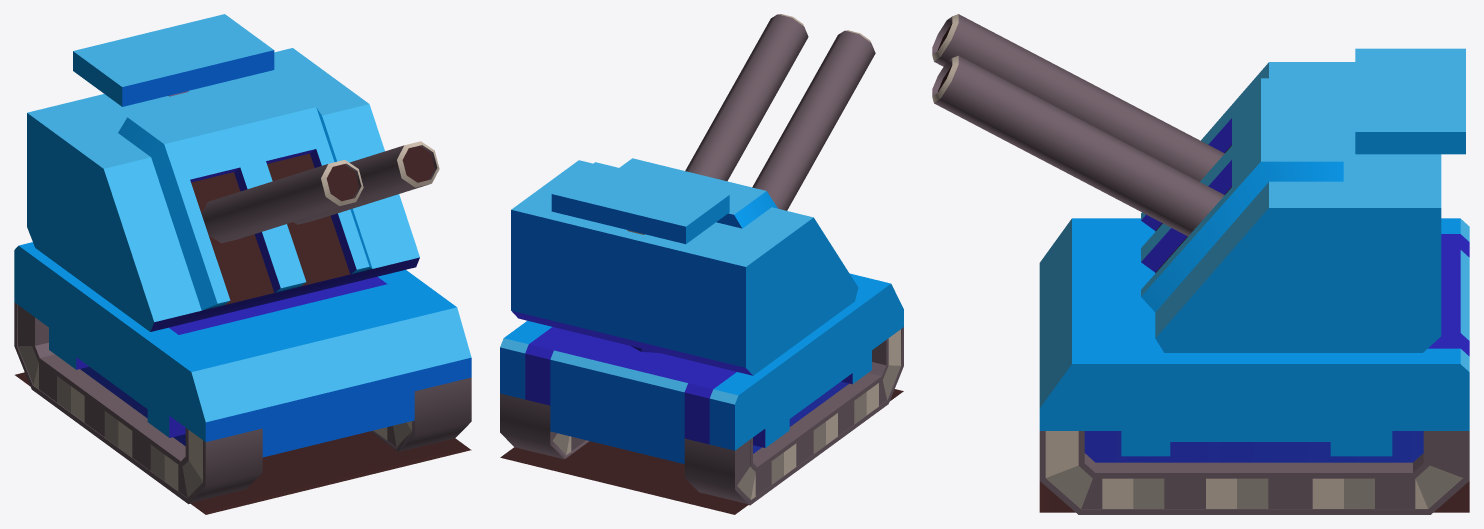
Rendered from AntiAirMesh.BlueMoon.glb.
The picture shows the model from 3 angles, left to right: view 1: azimuth 30°, elevation 25°; view 2: azimuth 150°, elevation 25°; view 3: azimuth 270°, elevation 25°; orthographic projection. The views are drawn at different scales.
Parts seen in each view (by area): view 1: AntiAirMesh.BlueMoon; view 2: AntiAirMesh.BlueMoon; view 3: AntiAirMesh.BlueMoon.
Part boxes in pixels (x1,y1,x2,y2): AntiAirMesh.BlueMoon: (14, 14, 471, 514); AntiAirMesh.BlueMoon: (500, 14, 903, 514); AntiAirMesh.BlueMoon: (932, 14, 1469, 514).
Size of the model in its own units: 1.4 by 1.8 by 2.18.
1 material, 1 textured.
